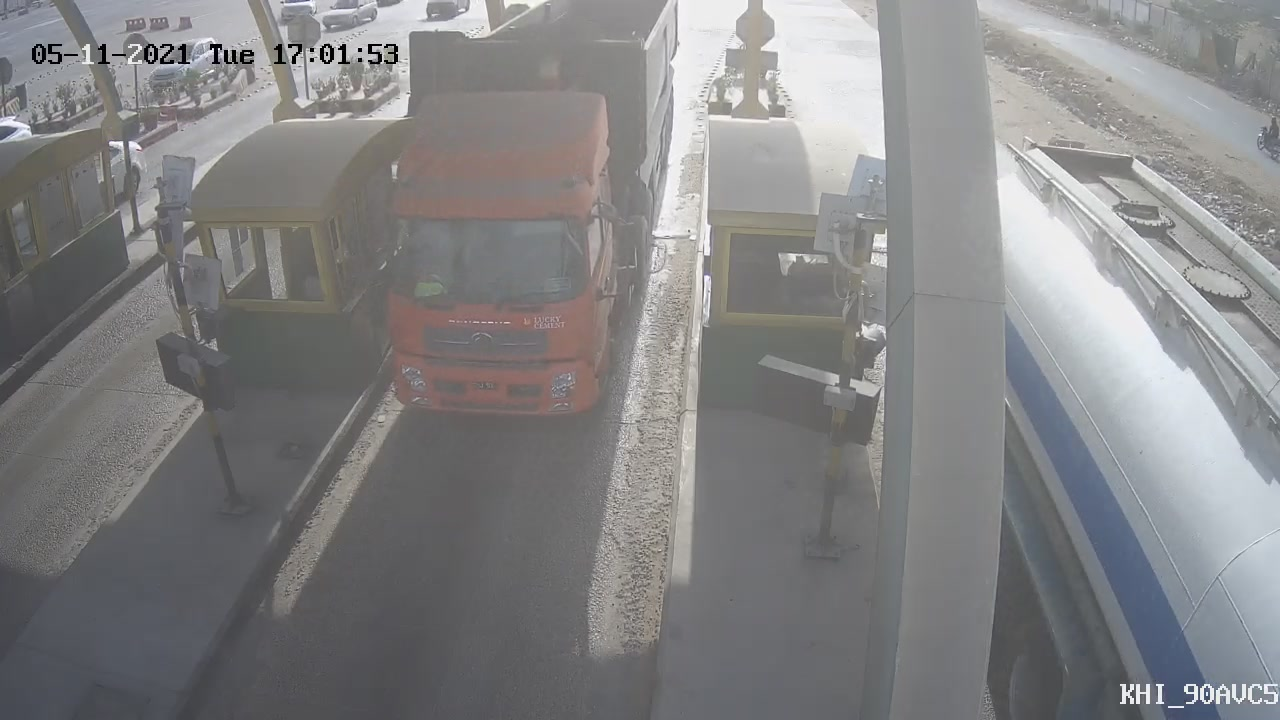F6: (309, 1, 703, 452)
